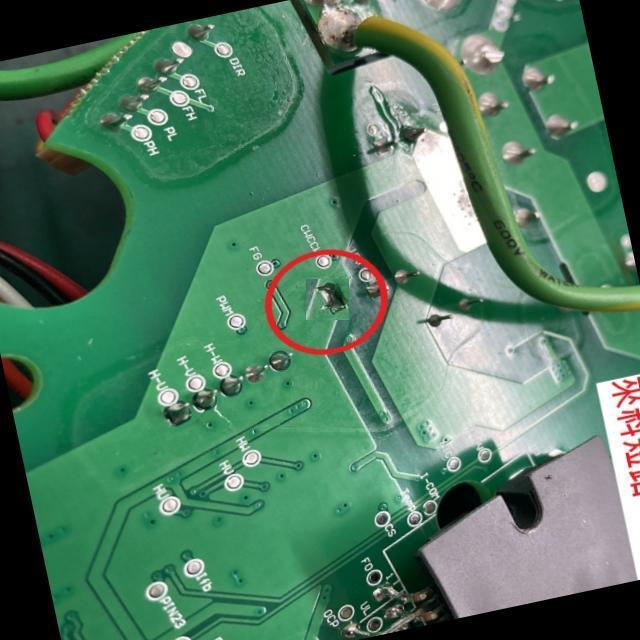damged: (306, 278, 350, 320)
